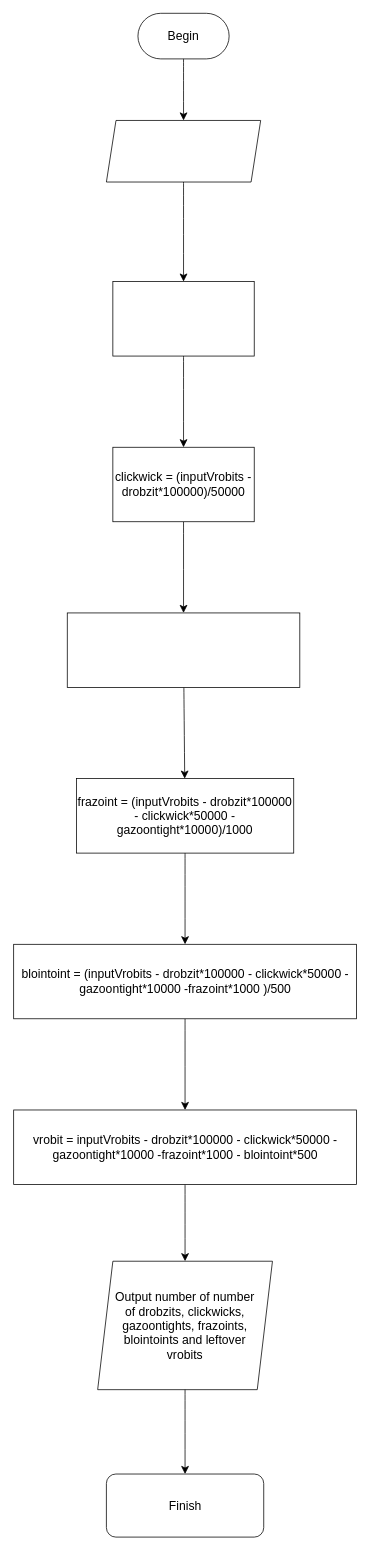
Some shapes in this 369 by 1550 pixel diagram are drawn without their labels. Here are the shapes that lost their labels. From the top down, the box of each, then its label:
(106, 120, 261, 182): Obtain number of vrobits from user (inputVrobits)
(112, 281, 254, 356): drobzit = inputVrobits/100000
(66, 612, 300, 687): gazoontight = (inputVrobits - drobzit*100000 - clickwick*50000)/10000
